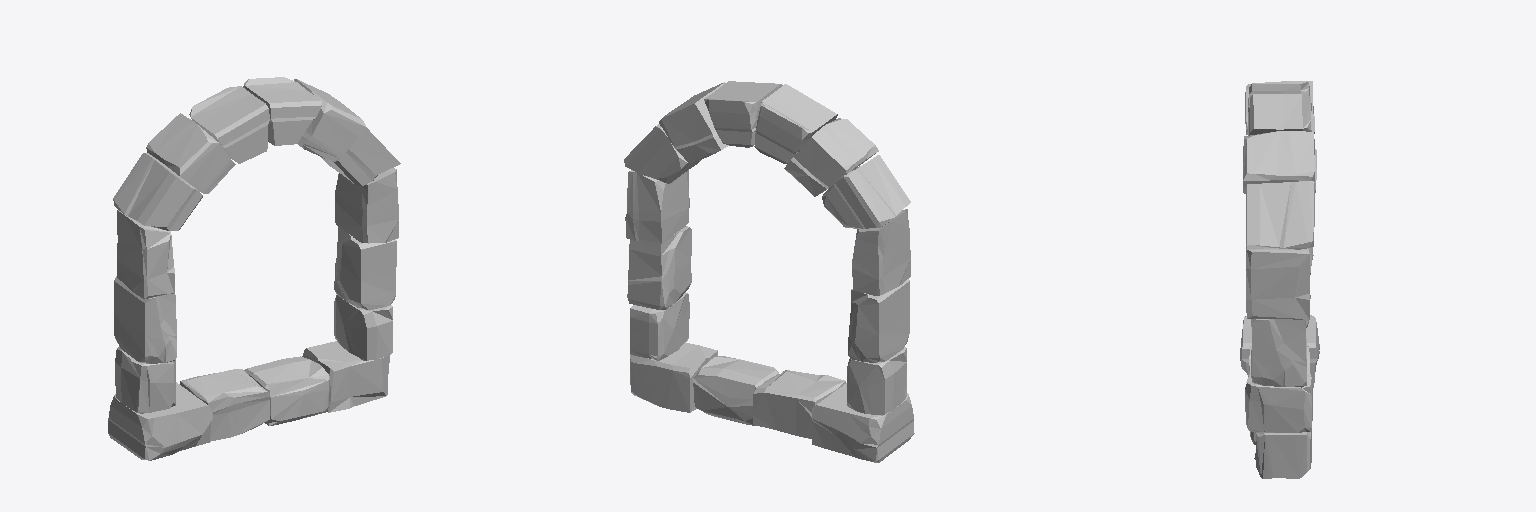
File: Window_Wide_Round_Rocks.obj
The picture shows the model from 3 angles: view 1: azimuth 30°, elevation 25°; view 2: azimuth 150°, elevation 25°; view 3: azimuth 270°, elevation 25°; orthographic projection.
Parts seen in each view (by area): view 1: Window_Wide_Round_Rocks; view 2: Window_Wide_Round_Rocks; view 3: Window_Wide_Round_Rocks.
Part boxes in pixels (bbox=[...]): Window_Wide_Round_Rocks: bbox=[108, 77, 400, 460]; Window_Wide_Round_Rocks: bbox=[624, 81, 914, 462]; Window_Wide_Round_Rocks: bbox=[1240, 81, 1319, 478].
Bounding box in the file's own units: 1.51 × 1.82 × 0.4009.